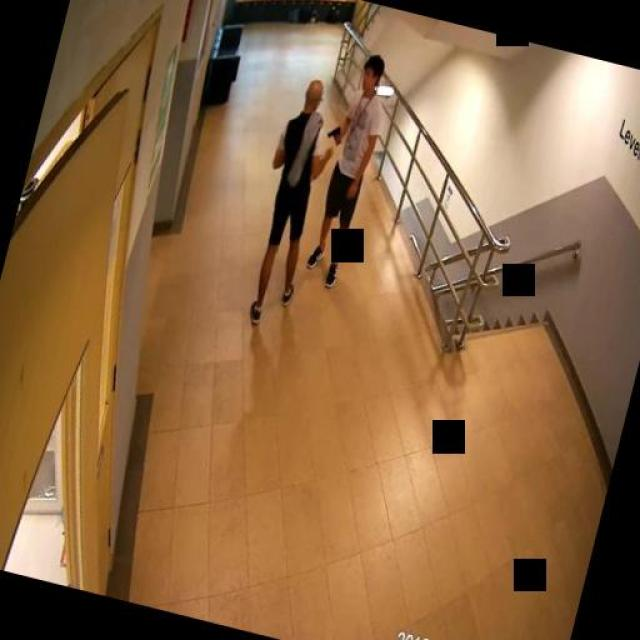gun: (325, 121, 344, 144)
